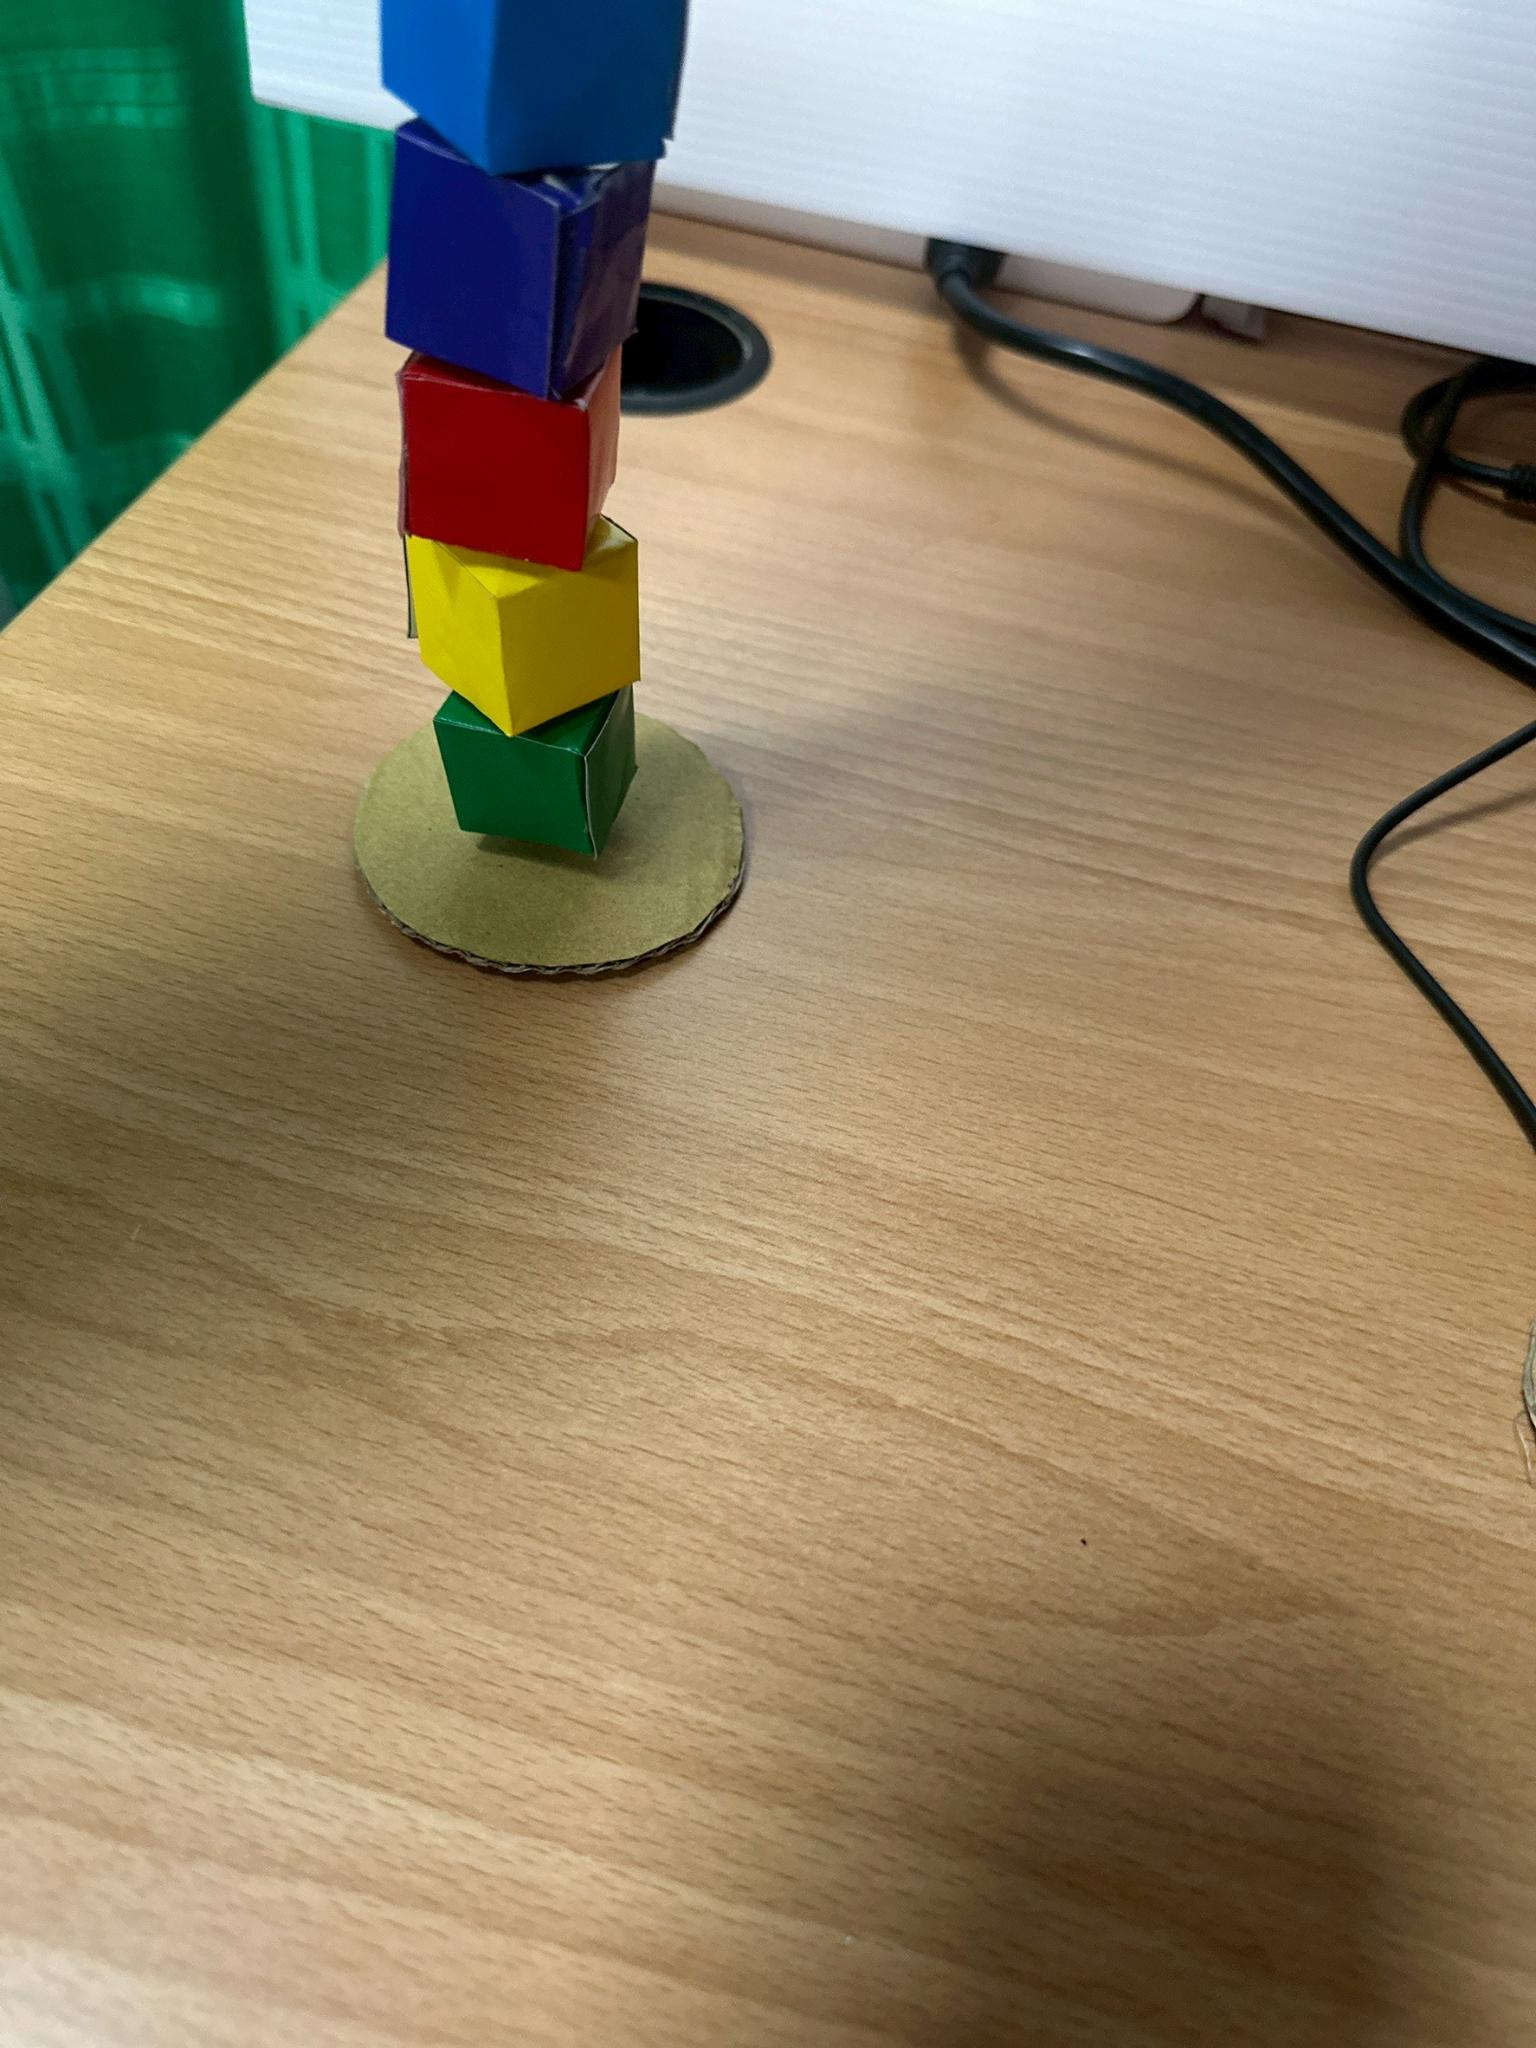base: (355, 714, 742, 972)
